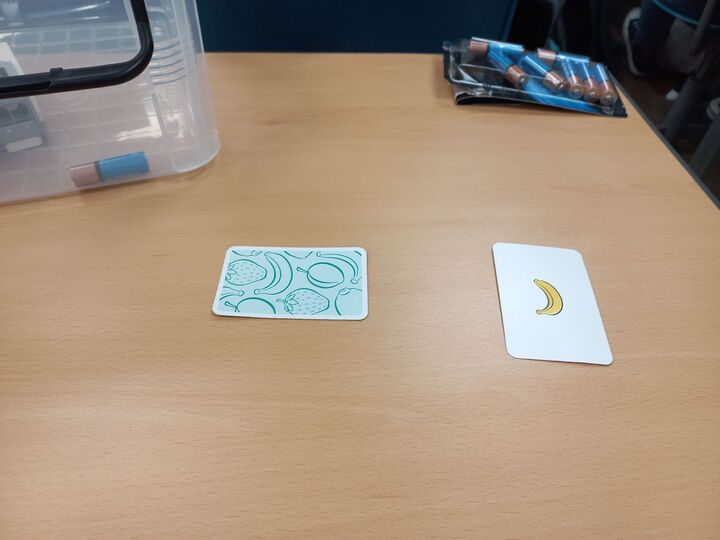banana1: (491, 240, 614, 369)
